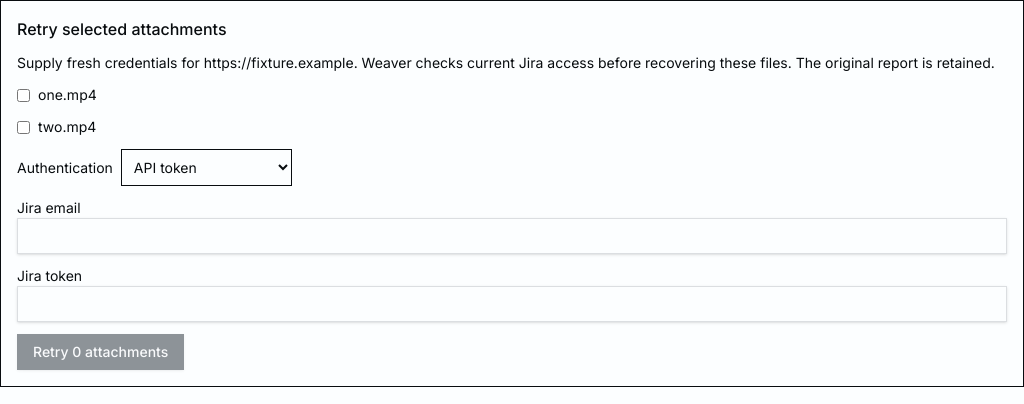
submits only selected failures with fresh credentials and clears the token on success
The width and height of the screenshot is (1024, 404).
Click the checkbox labelled "one.mp4".
click(24, 95)  # box [17,88,30,102]
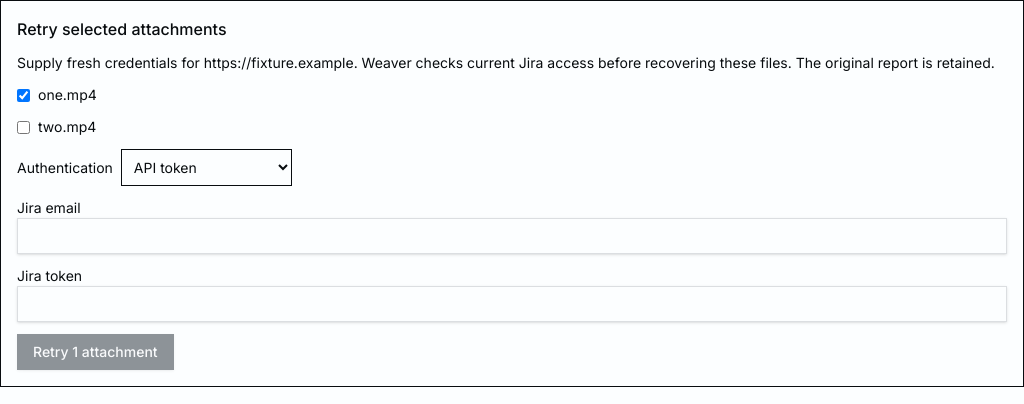
Type "reader@example.test" into the field labelled "Jira email".
click(512, 236); type("reader@example.test")  # box [17,218,1007,254]
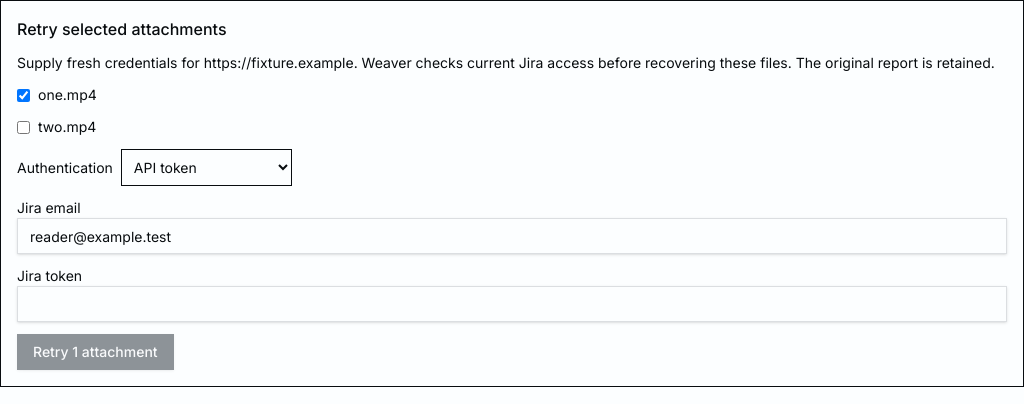
Type "fixture-secret" into the password field labelled "Jira token".
click(512, 304); type("fixture-secret")  # box [17,286,1007,322]
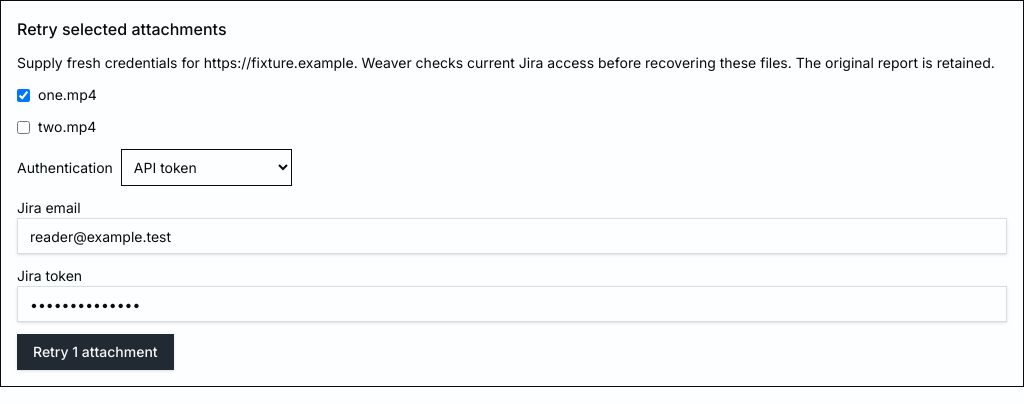
Click the button "Retry 1 attachment".
click(95, 352)  # box [17,334,174,370]
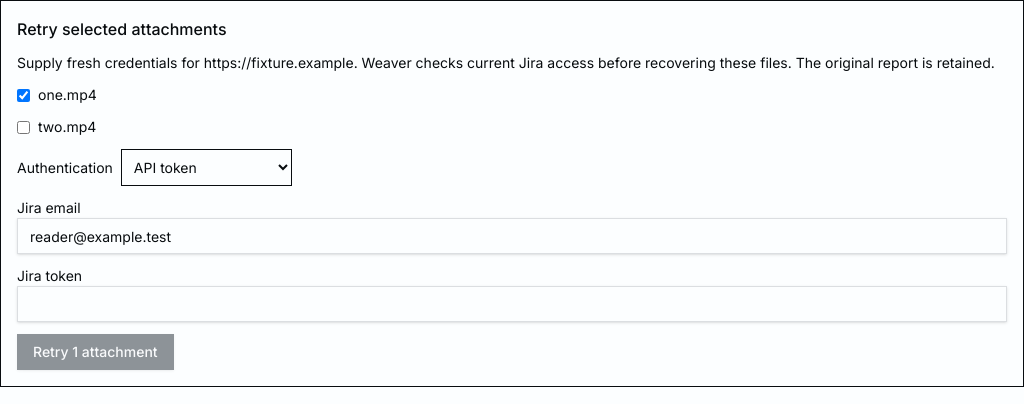
expect the password field labelled "Jira token" is empty: met, box [17,286,1007,322]
